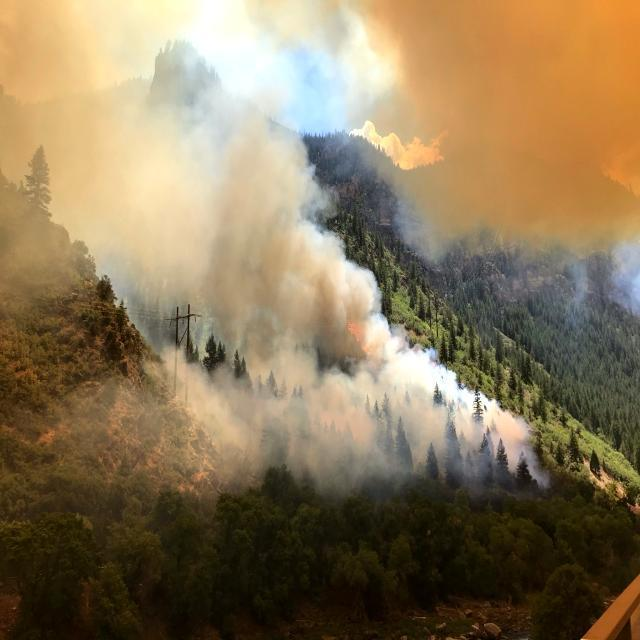Smoke: (0, 0, 551, 486)
